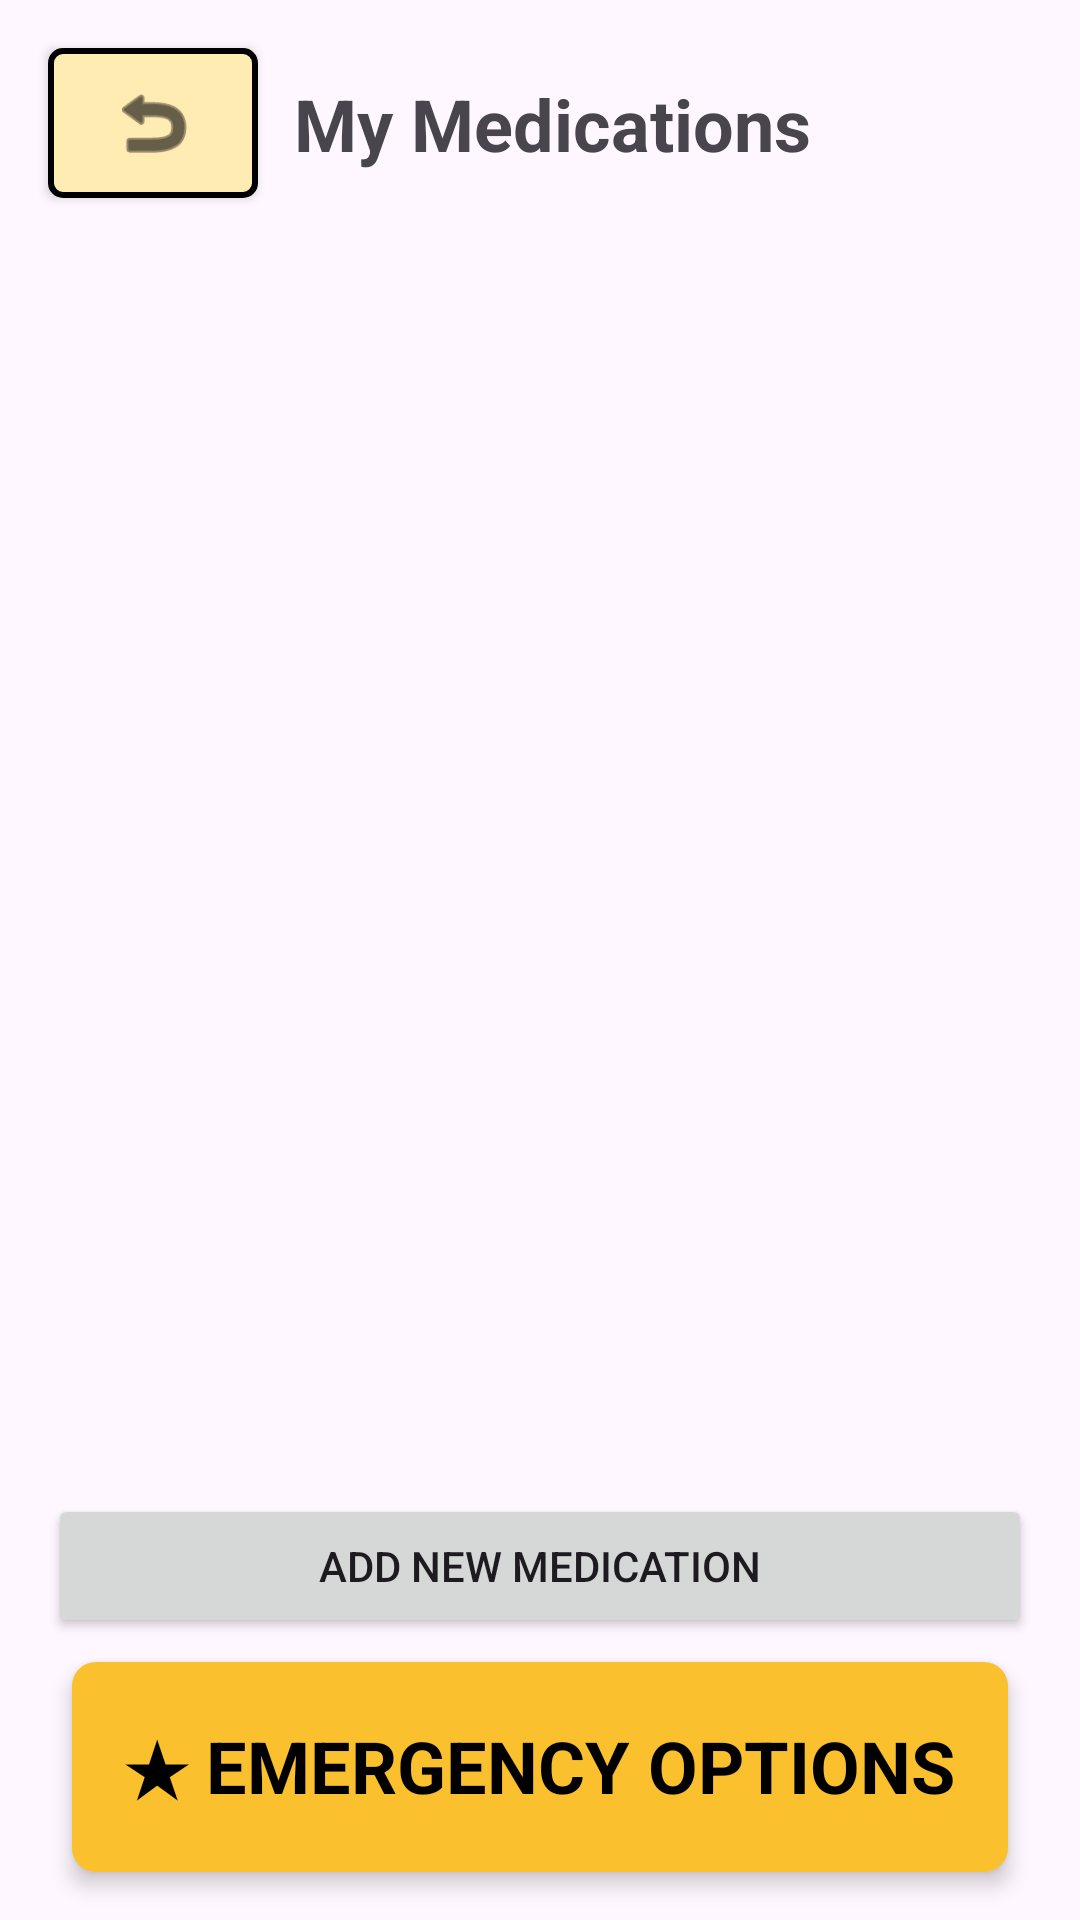

Where to tap for icons on this 1080 × 1920 app screen, as (x=x, y=y):
revert: (x=154, y=123)
